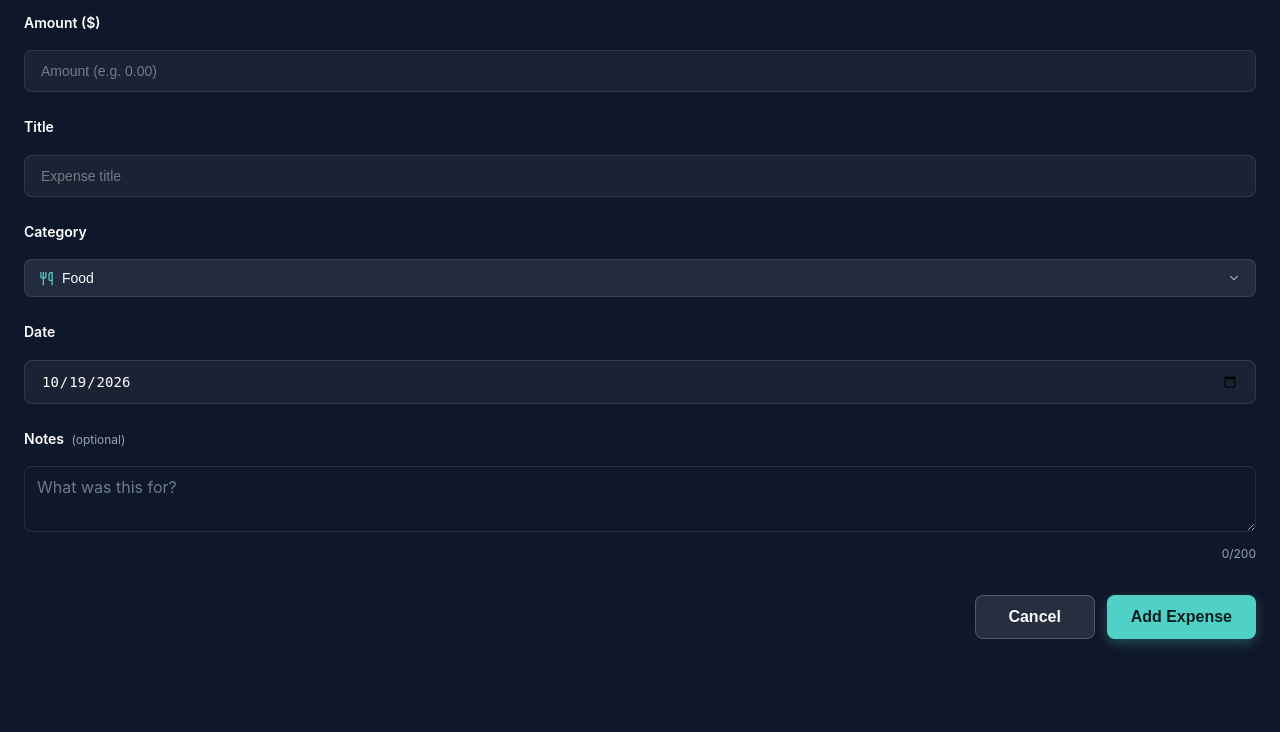
Test: ExpenseForm component › shows error message when addExpense fails
This screenshot has width=1280, height=732.
Type "12" into the field labelled "Amount ($)" at (640, 71), box [24,50,1256,92]
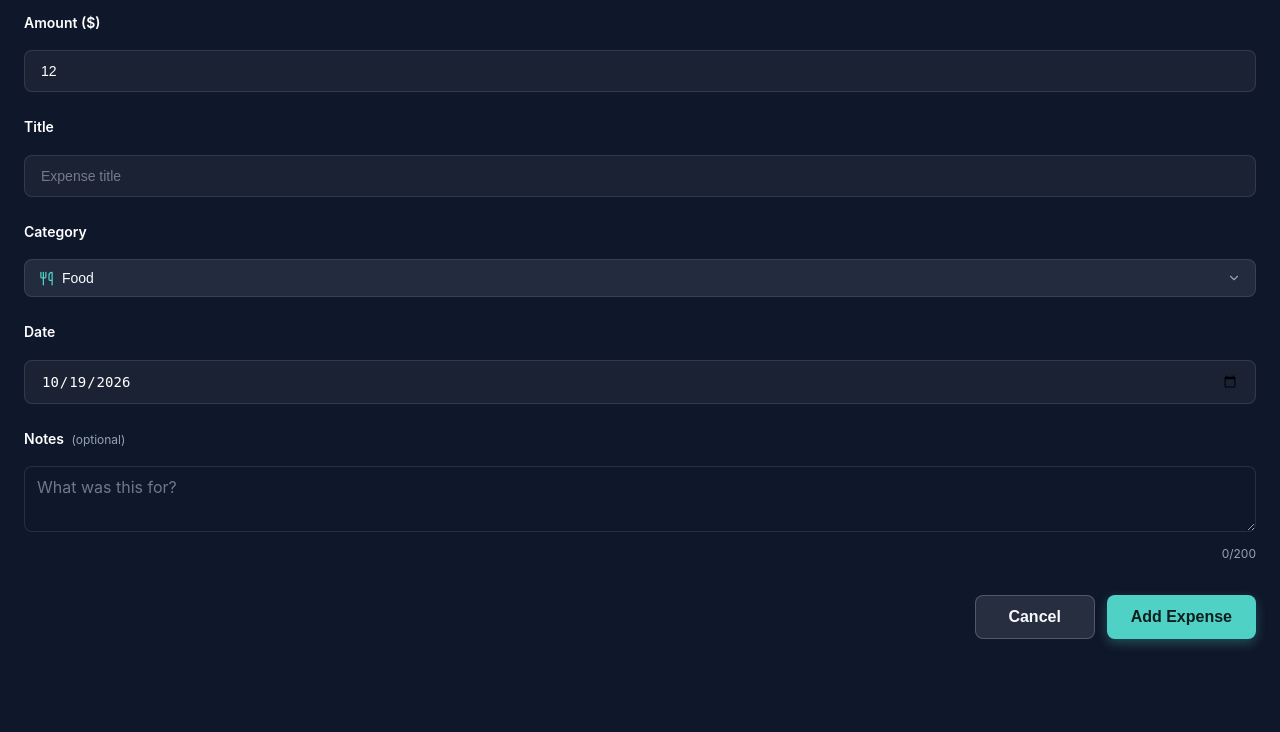
Type "Snacks" into the field labelled "Title" at (640, 176), box [24,155,1256,197]
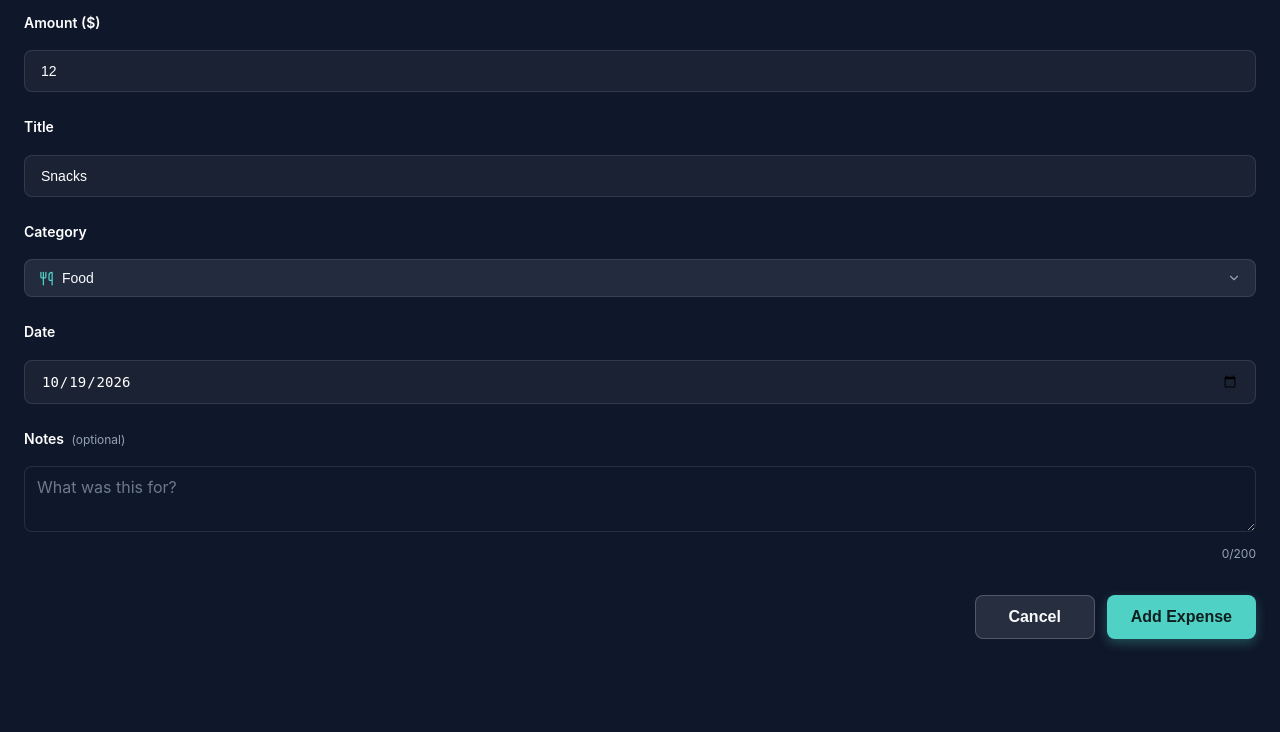
Type "2024-02-20" into the date field labelled "Date" at (640, 382), box [24,360,1256,404]
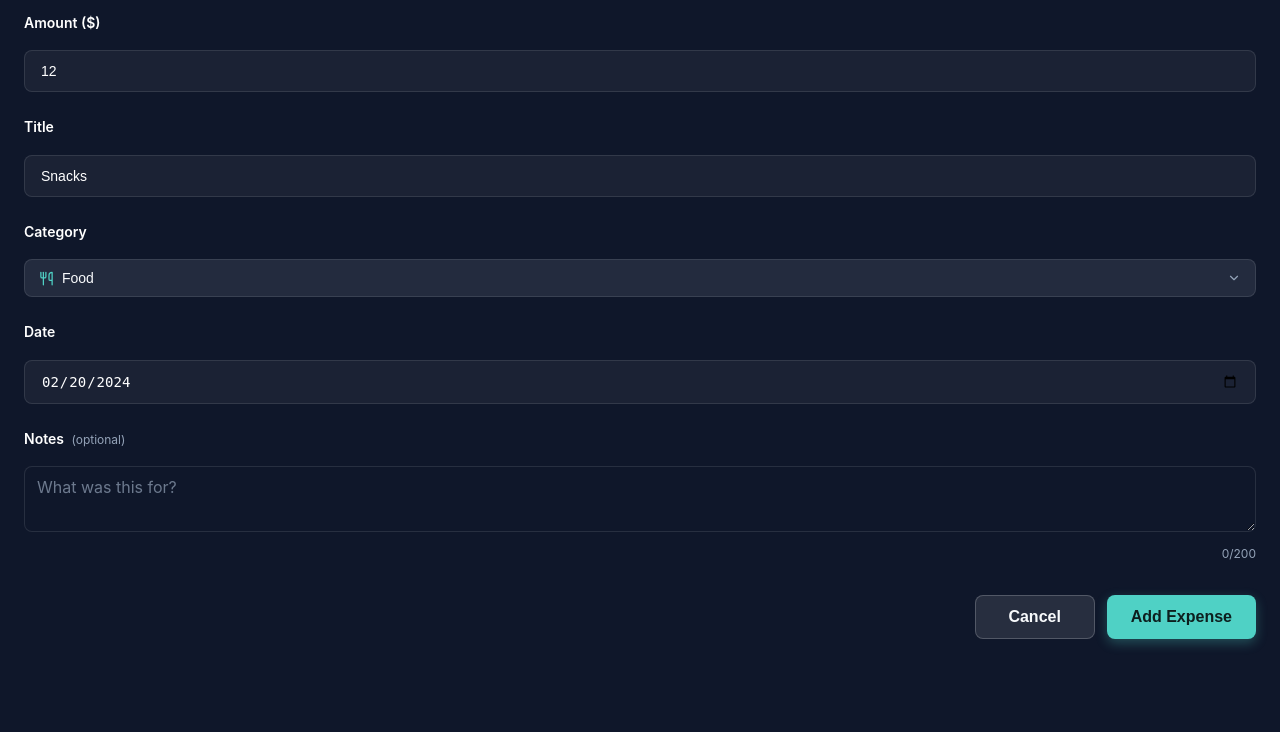
Click the button "Add Expense" at (1181, 617), box [1107,595,1256,639]
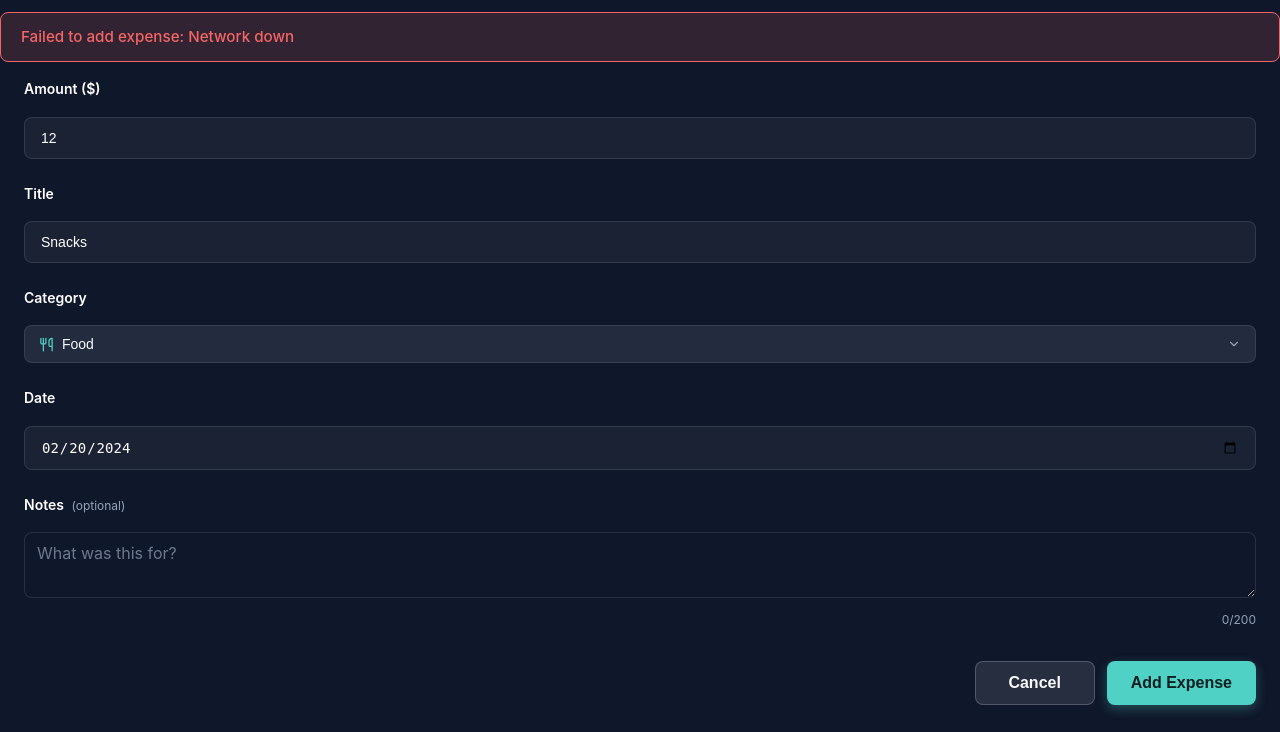
Expected: the text "Failed to add expense: Network down" is shown, [0,12,1279,62]
